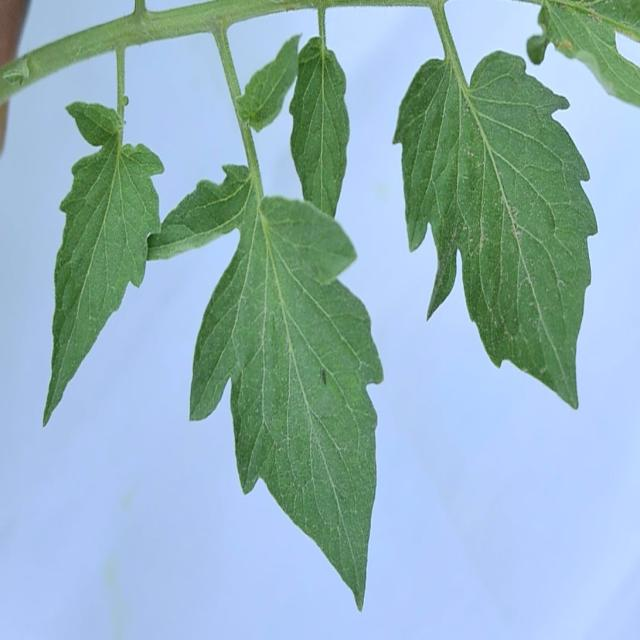healthy: (146, 150, 384, 612), (382, 48, 628, 410), (39, 96, 163, 442)
